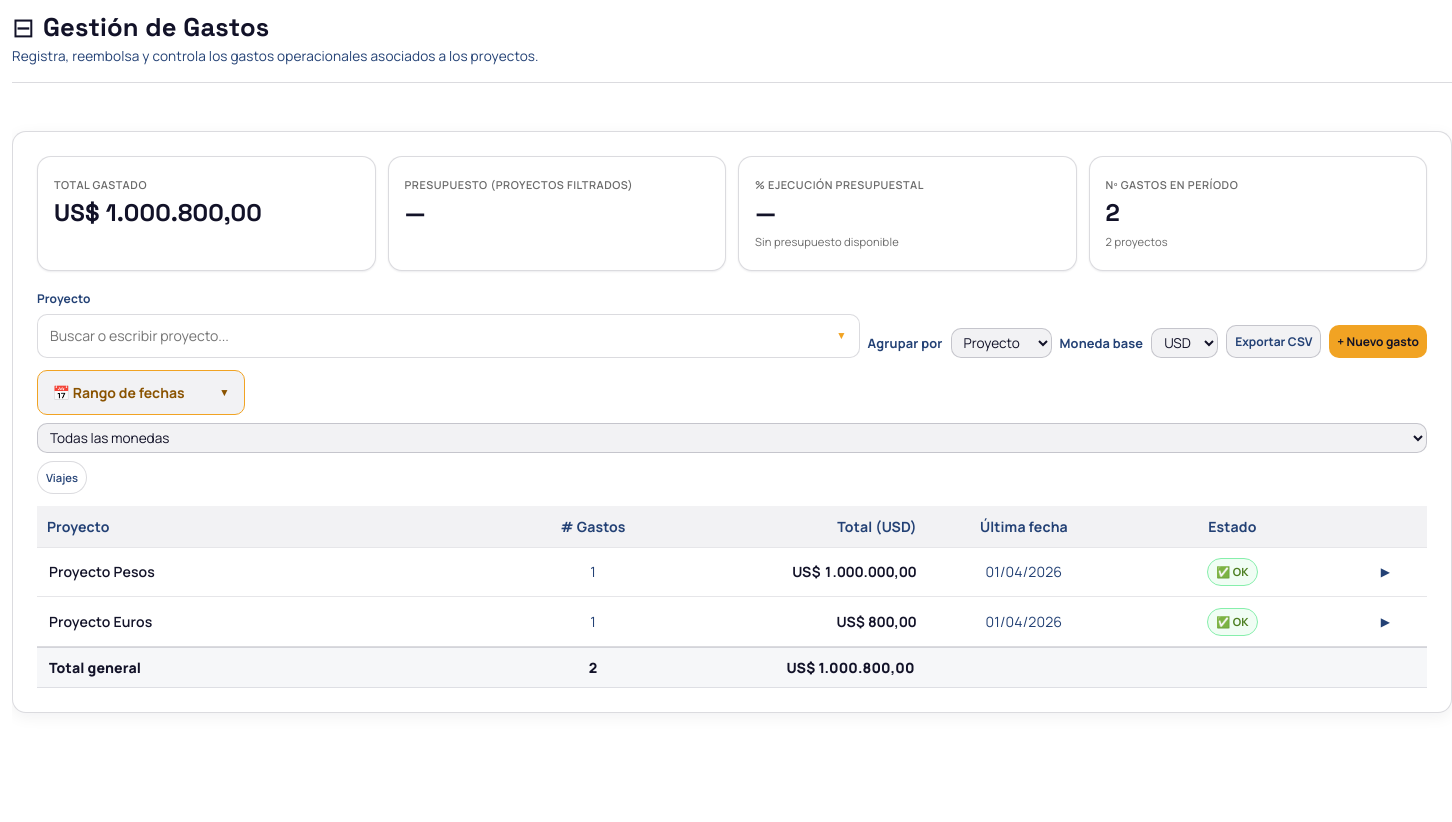
Test: Buscador de proyecto en Gastos (R-027) › es un desplegable con los proyectos, no un campo de texto suelto
The width and height of the screenshot is (1452, 822).
// Al abrirlo salen los proyectos como opciones elegibles.
Click the field with placeholder "Buscar o escribir proyecto..." at (443, 336), box [50,324,836,348]
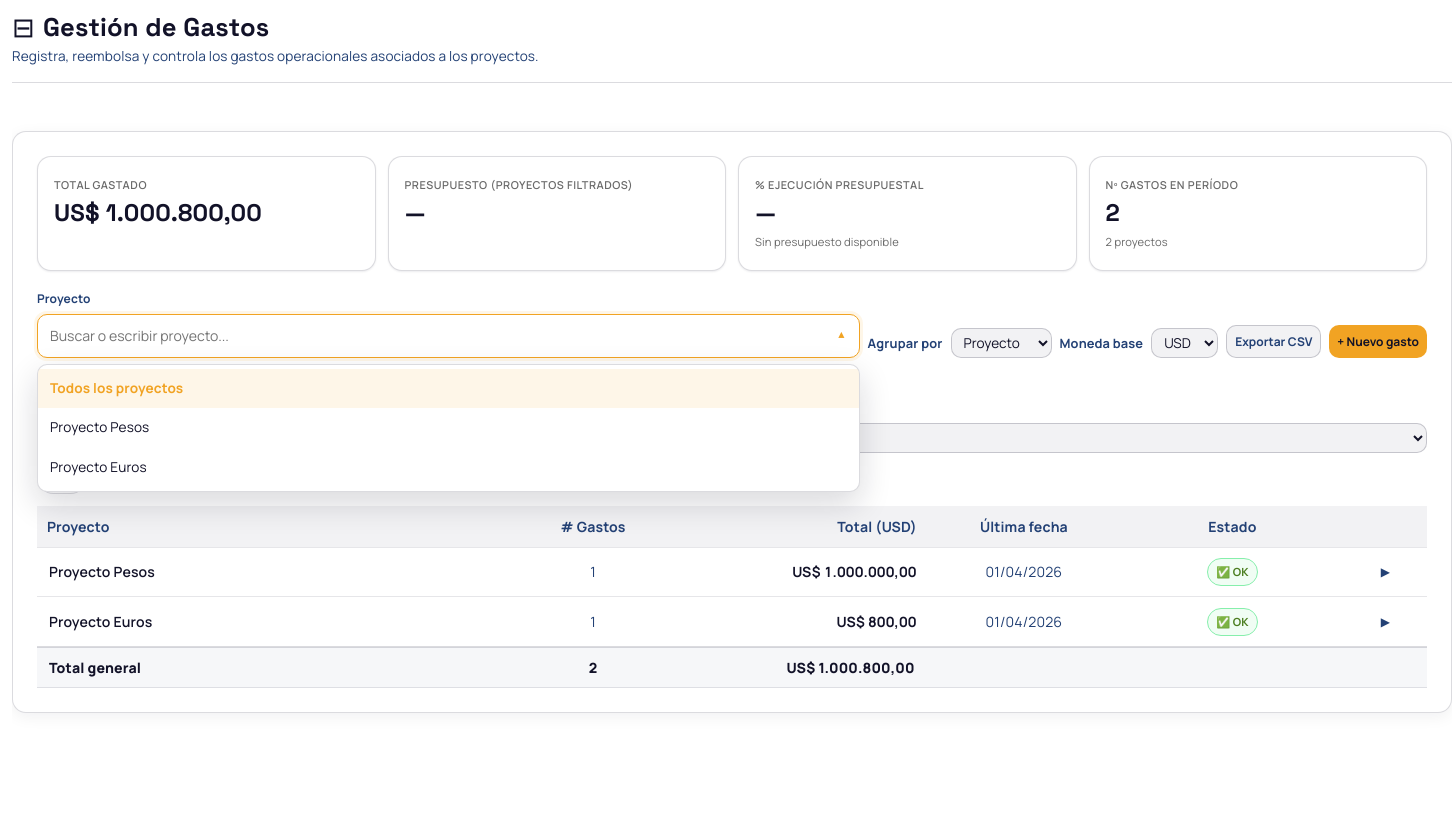
Check: the text "Proyecto Pesos" is shown, box [50,416,149,440]
Check: the text "Proyecto Euros" is shown, box [50,456,147,479]
